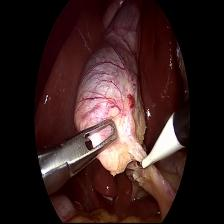Grasper: (36, 118, 119, 193)
Hook: (135, 114, 180, 182)
